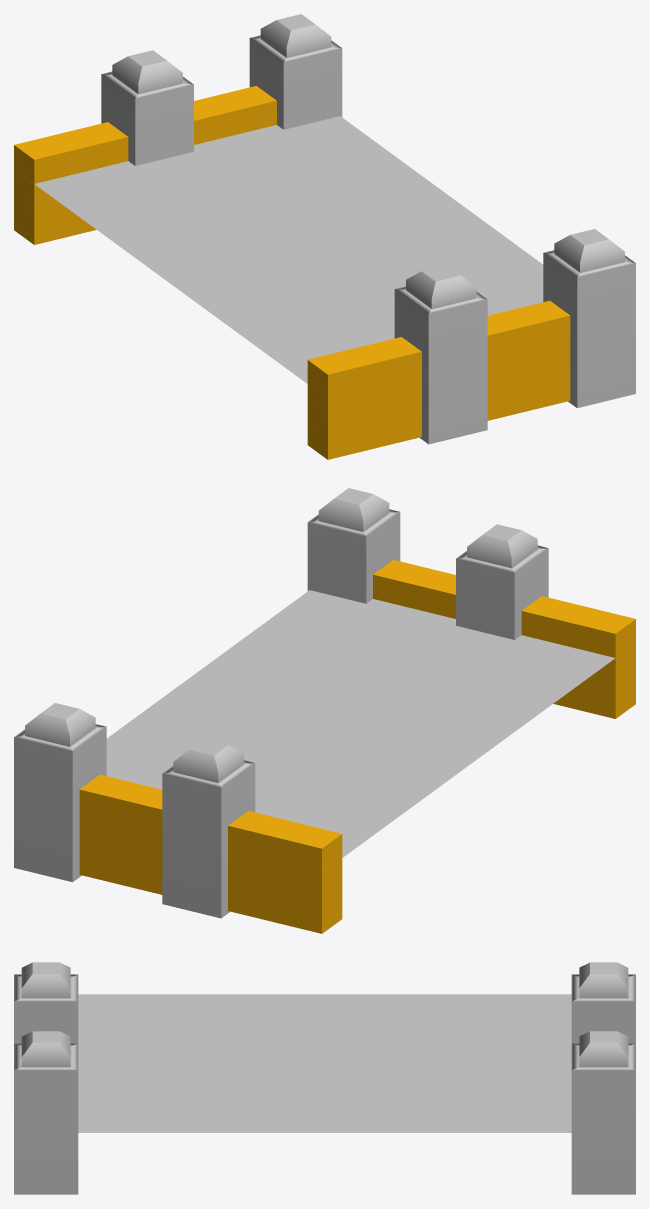
The model's file is bridge 2.fbx.
3 views of the same model, one above another, from view 1: azimuth 30°, elevation 25°; view 2: azimuth 150°, elevation 25°; view 3: azimuth 270°, elevation 25° (orthographic). The views are drawn at different scales.
Parts seen in each view (by area): view 1: pCube1, pCube10, pCube2, pCube11, pCube3, pCube12, pCube13, pCube14, pCube15; view 2: pCube1, pCube13, pCube12, pCube14, pCube15, pCube2, pCube10, pCube11, pCube3; view 3: pCube1, pCube2, pCube12, pCube10, pCube13.
Part boxes in pixels (x1,y1,x2,y2): pCube1: (34,116,543,383); pCube10: (394,265,487,444); pCube2: (543,229,635,408); pCube11: (307,337,421,459); pCube3: (487,300,570,420); pCube12: (249,14,342,129); pCube13: (101,50,193,165); pCube14: (14,122,128,244); pCube15: (194,86,276,144); pCube1: (106,590,615,857); pCube13: (162,739,255,918); pCube12: (14,703,106,882); pCube14: (228,811,342,933); pCube15: (79,774,162,894); pCube2: (307,488,400,603); pCube10: (456,524,548,639); pCube11: (521,596,635,718); pCube3: (373,560,455,618); pCube1: (78,994,571,1132); pCube2: (14,1031,78,1194); pCube12: (571,1031,635,1194); pCube10: (14,962,78,1043); pCube13: (571,962,635,1043).
Size of the model in its own units: 5.12 by 2.46 by 9.64.
